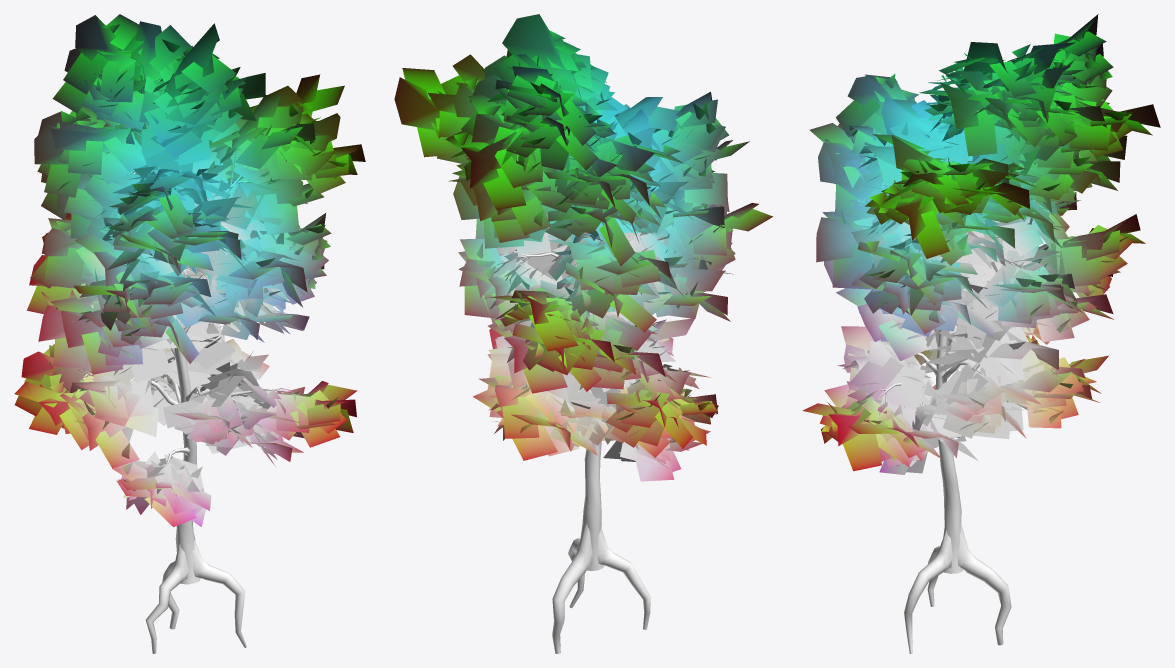
The model's file is arden_forest_hickory_04.fbx.
The picture shows the model from 3 angles, left to right: view 1: azimuth 30°, elevation 25°; view 2: azimuth 150°, elevation 25°; view 3: azimuth 270°, elevation 25°; orthographic projection. The views are drawn at different scales.
Visible parts, largest first — view 1: arden_forest_hickory_04; view 2: arden_forest_hickory_04; view 3: arden_forest_hickory_04.
Boxes of the visible parts, x1,y1,x2,y2 form: arden_forest_hickory_04: (14,14,365,653); arden_forest_hickory_04: (394,14,772,653); arden_forest_hickory_04: (802,14,1160,653).
Bounding box in the file's own units: 12.24 × 11.52 × 22.05.
